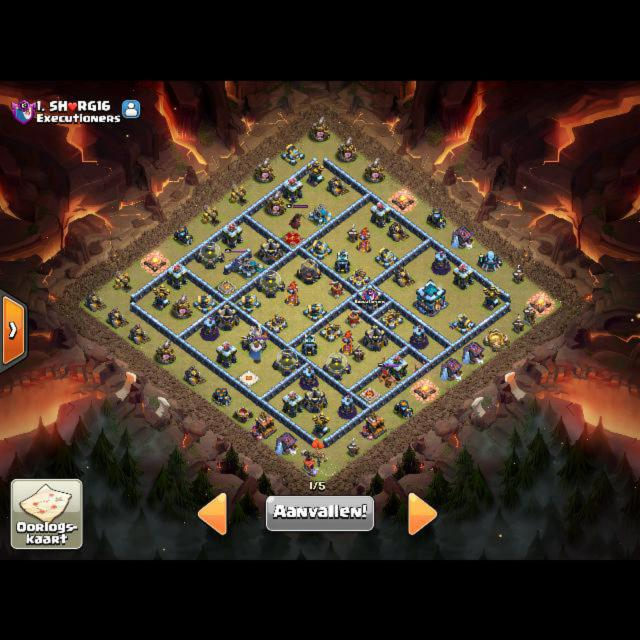AD: (311, 411, 329, 438), (306, 160, 324, 187), (482, 283, 500, 310), (152, 283, 170, 310)
AirSweeper: (345, 309, 362, 328), (329, 280, 346, 299)
BombTower: (302, 331, 317, 356), (335, 248, 350, 273)
Canon: (280, 142, 304, 164), (374, 246, 398, 268), (451, 313, 475, 334), (308, 239, 332, 260), (236, 293, 260, 313), (192, 293, 216, 313), (303, 301, 327, 321)
ClanCastle: (357, 282, 384, 314)
Eagle: (241, 323, 266, 354)
Inferno: (340, 329, 355, 355), (357, 226, 372, 252), (285, 280, 300, 306)
KingPad: (360, 387, 381, 402)
Mortar: (426, 206, 447, 228), (173, 224, 193, 246), (393, 398, 413, 418), (211, 387, 231, 406)
QueenPad: (282, 229, 304, 245)
RcPad: (217, 280, 235, 293)
Scattershot: (237, 257, 265, 279), (309, 203, 333, 226)
TH13: (415, 278, 445, 316)
WardenPad: (240, 370, 259, 384)
WizzTower: (409, 324, 427, 349), (431, 250, 449, 275), (200, 316, 218, 340), (299, 365, 317, 389), (338, 394, 356, 418)
Xbow: (346, 266, 371, 287), (319, 319, 342, 341), (379, 307, 402, 328), (263, 312, 287, 332)
